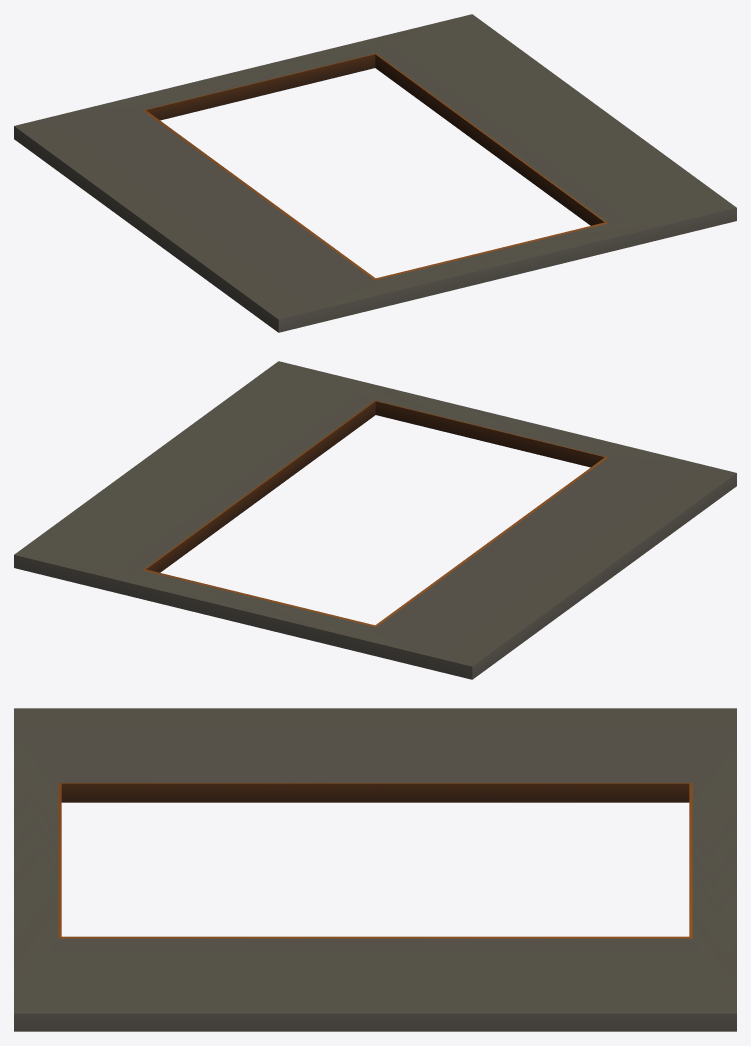
Rendered from TSP_House_Floor_Small_01C_Open_Center.fbx.
The picture shows the model from 3 angles, top to bottom: view 1: azimuth 30°, elevation 25°; view 2: azimuth 150°, elevation 25°; view 3: azimuth 270°, elevation 25°; orthographic projection. The views are drawn at different scales.
Parts seen in each view (by area): view 1: TSP_House_Floor_Small_01C_Open_Center; view 2: TSP_House_Floor_Small_01C_Open_Center; view 3: TSP_House_Floor_Small_01C_Open_Center.
Boxes of the visible parts, box(x1,y1,x2,y2) form: TSP_House_Floor_Small_01C_Open_Center: box(14, 14, 736, 332); TSP_House_Floor_Small_01C_Open_Center: box(14, 361, 736, 679); TSP_House_Floor_Small_01C_Open_Center: box(14, 708, 736, 1031).
Bounding box in the file's own units: 4 × 0.115 × 4.
